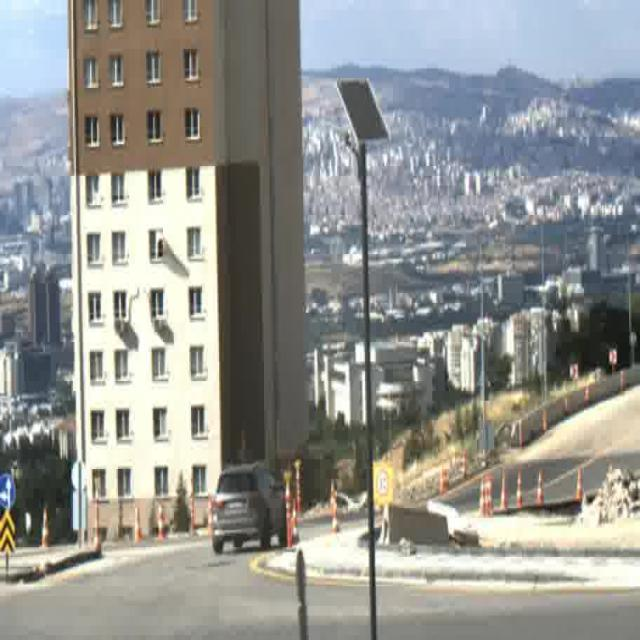Car: (214, 462, 295, 553)
